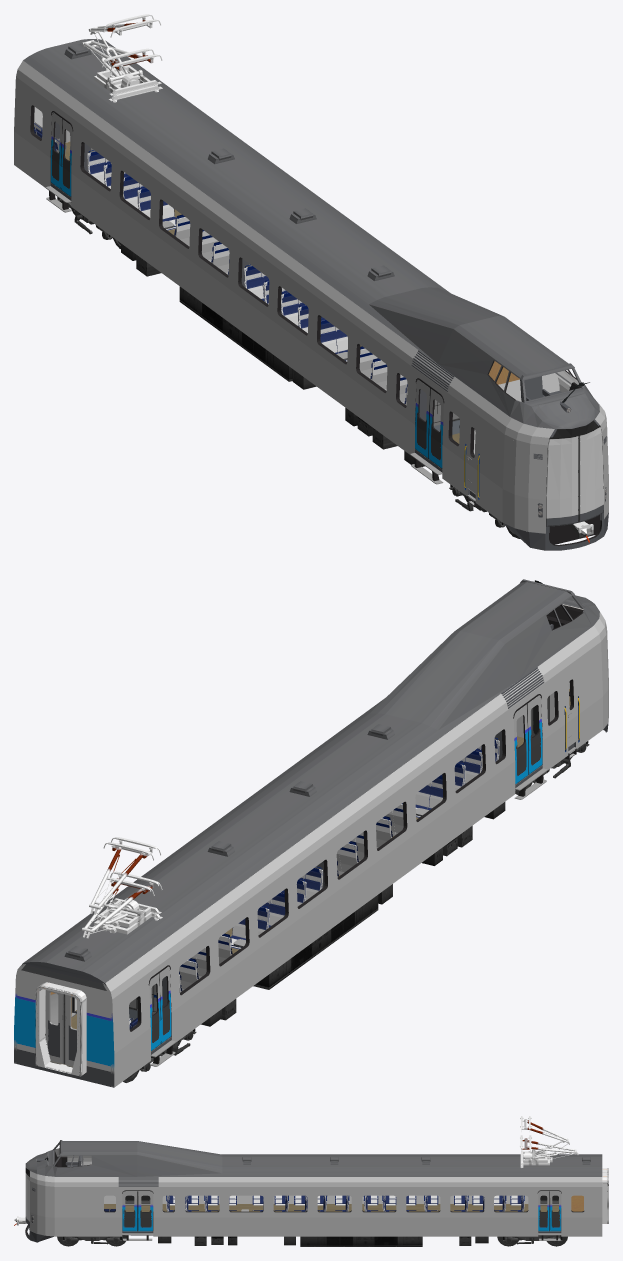
File: nsicmfront.obj
3 views of the same model, one above another, from view 1: azimuth 30°, elevation 25°; view 2: azimuth 150°, elevation 25°; view 3: azimuth 270°, elevation 25° (orthographic). The views are drawn at different scales.
Parts seen in each view (by area): view 1: side, jibung, chair_second, front, side_front, habu, jibungparts, m_panto6m, door_RF, door_RB, m_panto, frontparts (+5 smaller); view 2: side, jibung, chair_second, backout, habu, mak, m_panto6m, jibungparts, backdoor, m_panto, door_RF, door_RB (+4 smaller); view 3: side, jibung, chair_second, habu, badak, side_front, DT71, door_LB, inside, door_LF, m_panto6m, jibungparts (+7 smaller).
Boxes of the visible parts, x1=… form: side: x1=14, y1=61, x2=571, y2=522; jibung: x1=23, y1=39, x2=599, y2=428; chair_second: x1=87, y1=150, x2=407, y2=405; front: x1=546, y1=419, x2=603, y2=533; side_front: x1=502, y1=399, x2=608, y2=533; habu: x1=121, y1=243, x2=600, y2=544; jibungparts: x1=64, y1=43, x2=454, y2=391; m_panto6m: x1=88, y1=14, x2=161, y2=96; door_RF: x1=61, y1=119, x2=443, y2=468; door_RB: x1=50, y1=113, x2=430, y2=458; m_panto: x1=81, y1=40, x2=162, y2=102; frontparts: x1=503, y1=382, x2=608, y2=550; side: x1=14, y1=625, x2=602, y2=1087; jibung: x1=24, y1=582, x2=599, y2=983; chair_second: x1=179, y1=738, x2=499, y2=992; backout: x1=17, y1=962, x2=110, y2=1086; habu: x1=201, y1=789, x2=515, y2=1026; mak: x1=35, y1=982, x2=86, y2=1076; m_panto6m: x1=89, y1=837, x2=161, y2=927; jibungparts: x1=64, y1=667, x2=544, y2=961; backdoor: x1=45, y1=990, x2=76, y2=1066; m_panto: x1=82, y1=871, x2=162, y2=938; door_RF: x1=159, y1=695, x2=542, y2=1043; door_RB: x1=149, y1=704, x2=528, y2=1051; side: x1=54, y1=1154, x2=602, y2=1236; jibung: x1=25, y1=1141, x2=602, y2=1176; chair_second: x1=166, y1=1195, x2=524, y2=1211; habu: x1=131, y1=1235, x2=488, y2=1246; badak: x1=104, y1=1204, x2=558, y2=1211; side_front: x1=30, y1=1171, x2=54, y2=1236; DT71: x1=57, y1=1235, x2=567, y2=1246; door_LB: x1=137, y1=1191, x2=561, y2=1231; inside: x1=67, y1=1161, x2=528, y2=1203; door_LF: x1=122, y1=1191, x2=549, y2=1231; m_panto6m: x1=520, y1=1116, x2=569, y2=1165; jibungparts: x1=118, y1=1156, x2=590, y2=1186.
Size of the model in its own units: 3.17 by 5.74 by 26.18.
